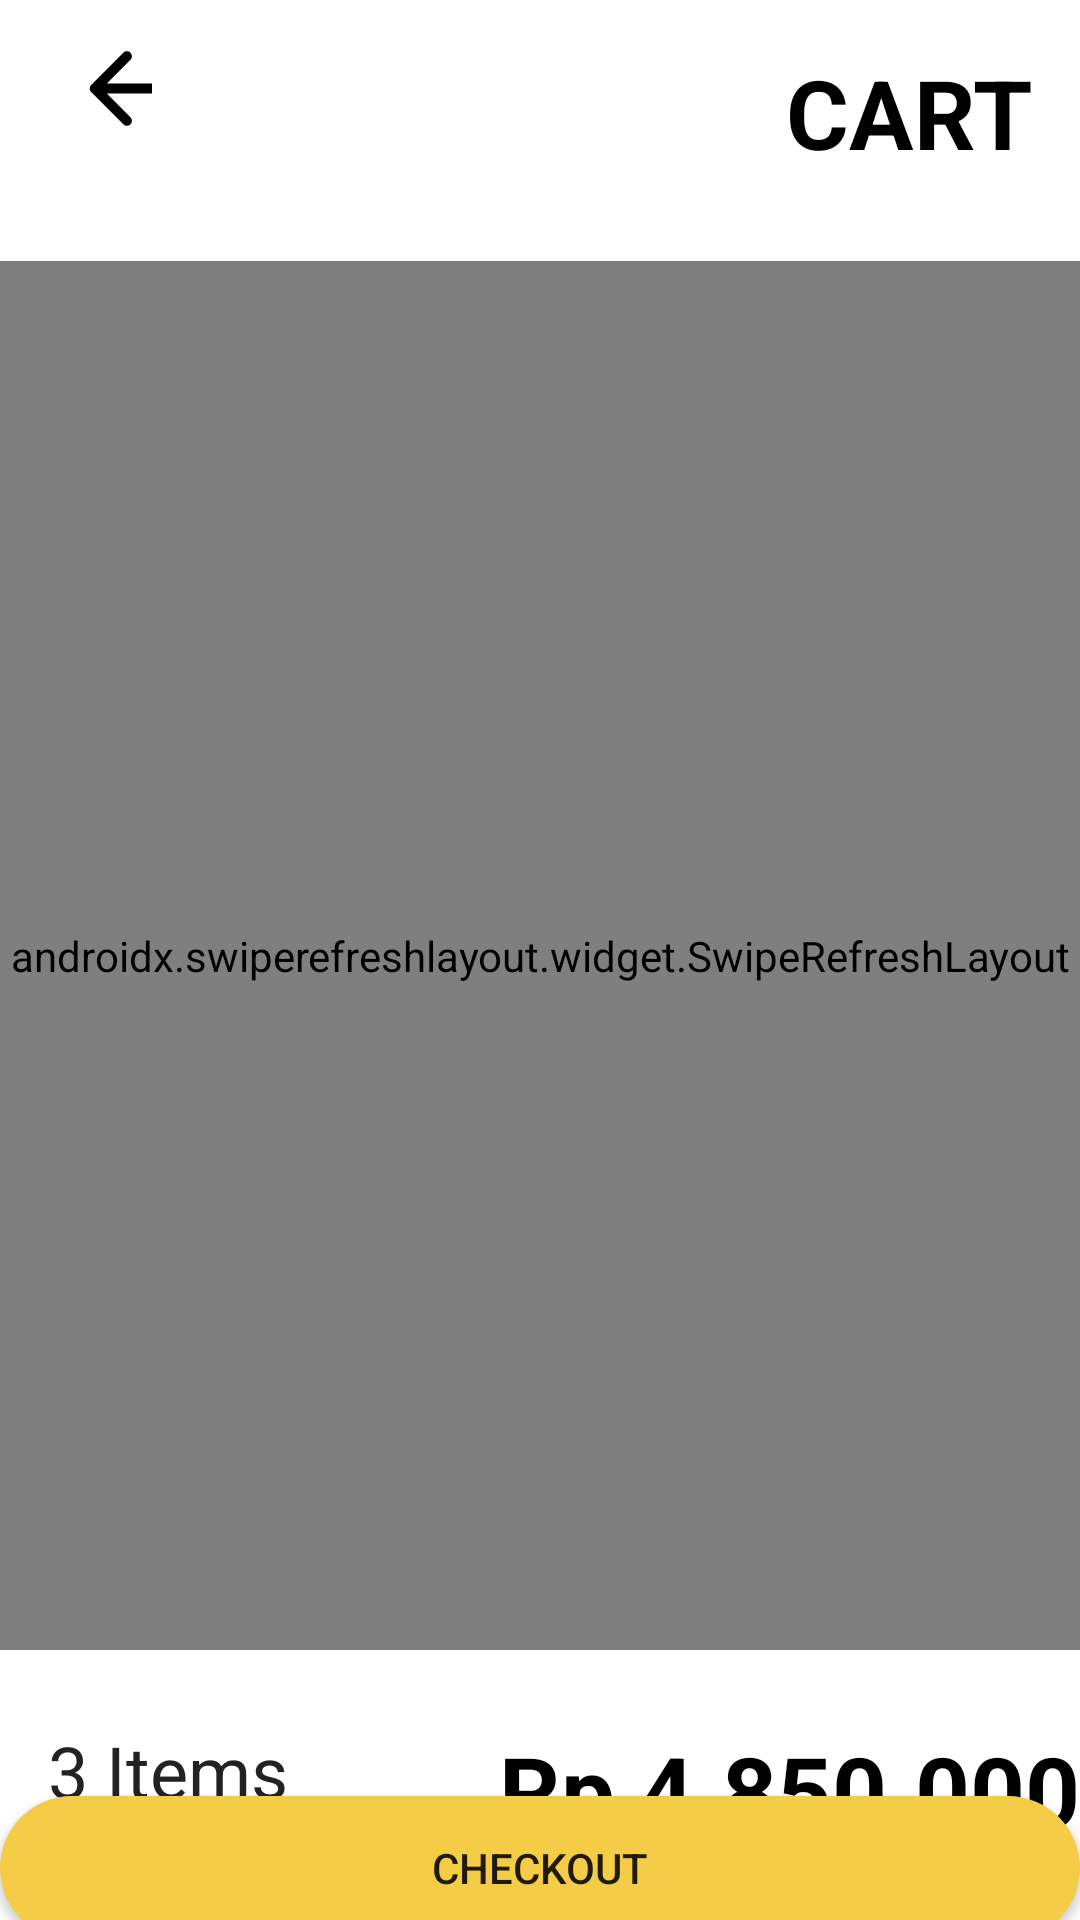

Point at icon controls on the screen. Image size 1080w x 1920h, points as [x,y].
back: [120,88]
